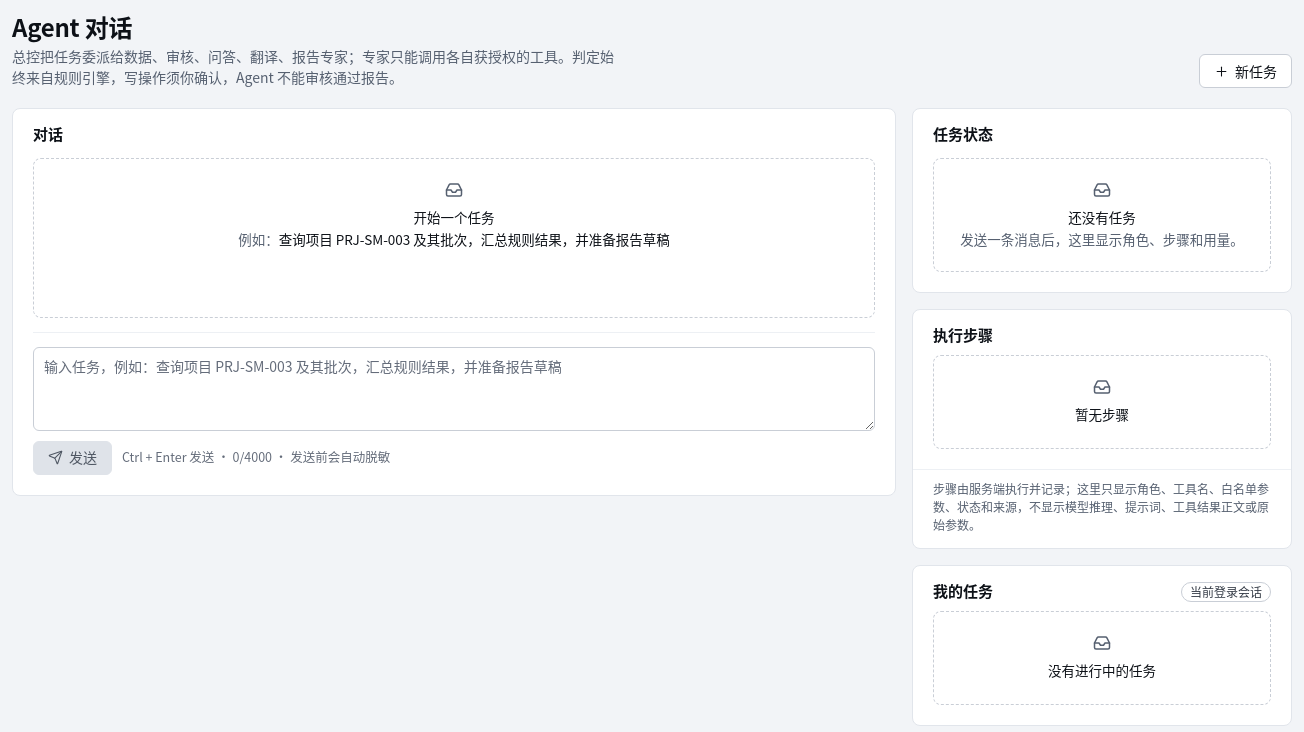
Scenario: Agent 对话：等待、超时、取消、失败、会话过期 › 超时：提示服务端可能仍在处理，写操作不会重复执行
Type "你好" into the text box named "消息" at (454, 388), box [33, 346, 875, 430]
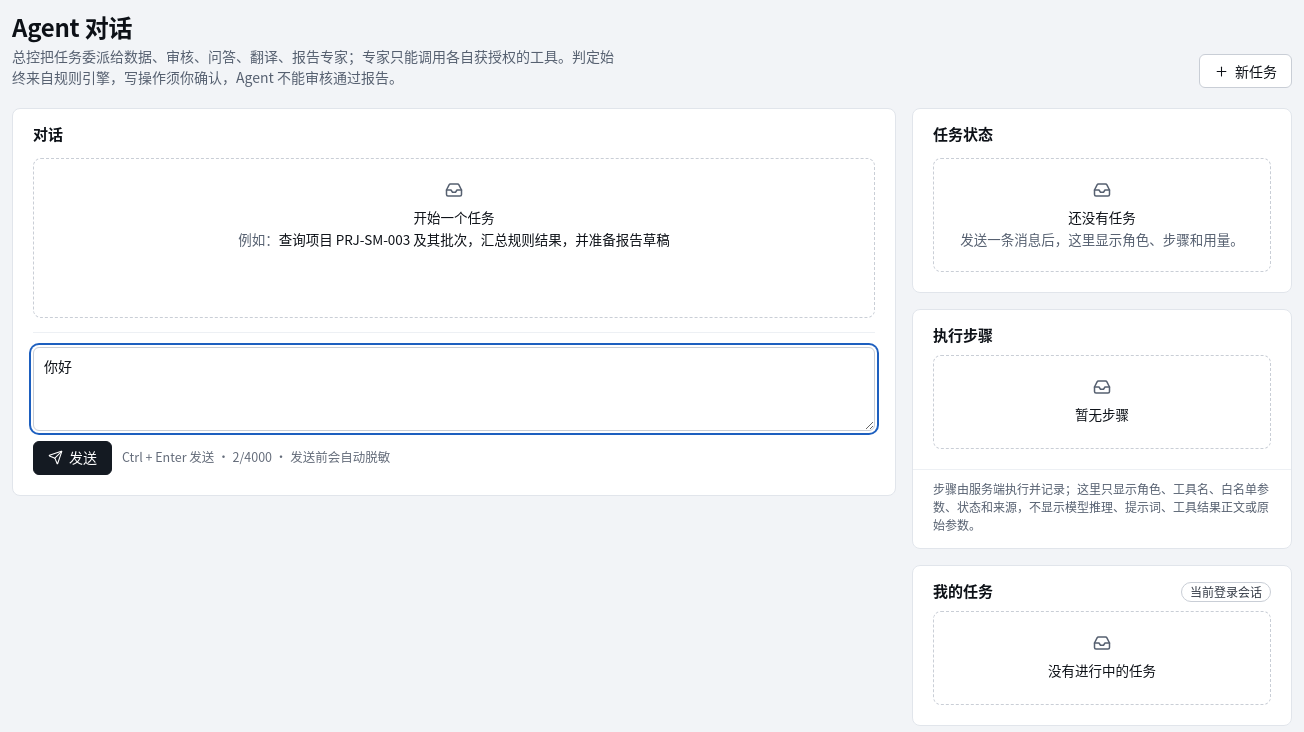
Click the button "发送" at (72, 458), box [33, 440, 112, 474]
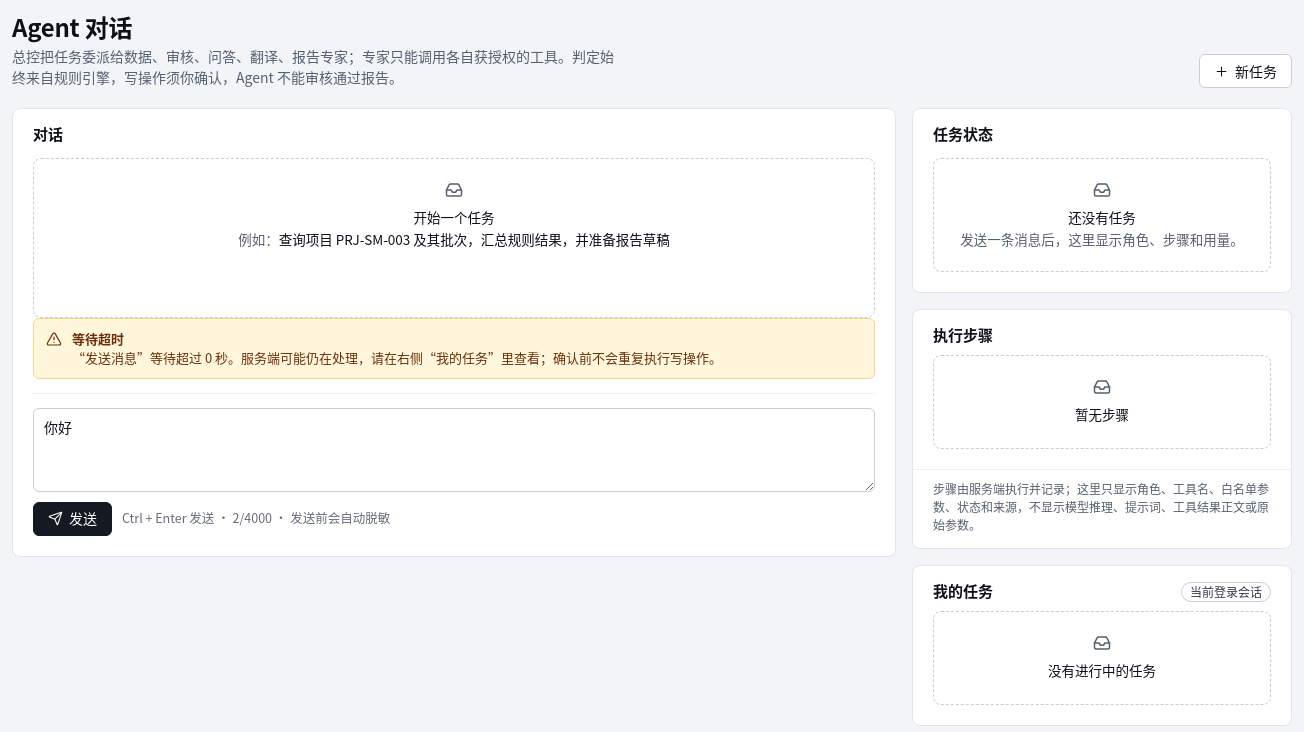
Check: the text "等待超时" is shown, box [72, 328, 124, 348]
Check: the text "等待超时 “发送消息”等待超过 0 秒。服务端可能仍在处理，请在右侧“我的任务”里查看；确认前不会重复执行写操作。" is shown, box [72, 328, 722, 367]
